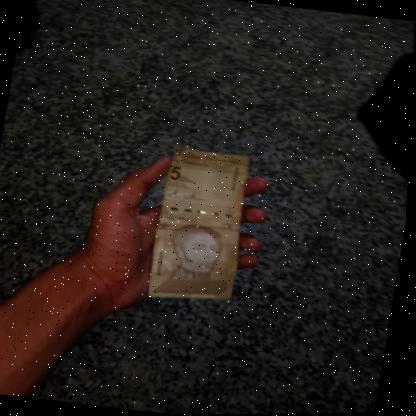five-front-vef: (147, 145, 257, 307)
